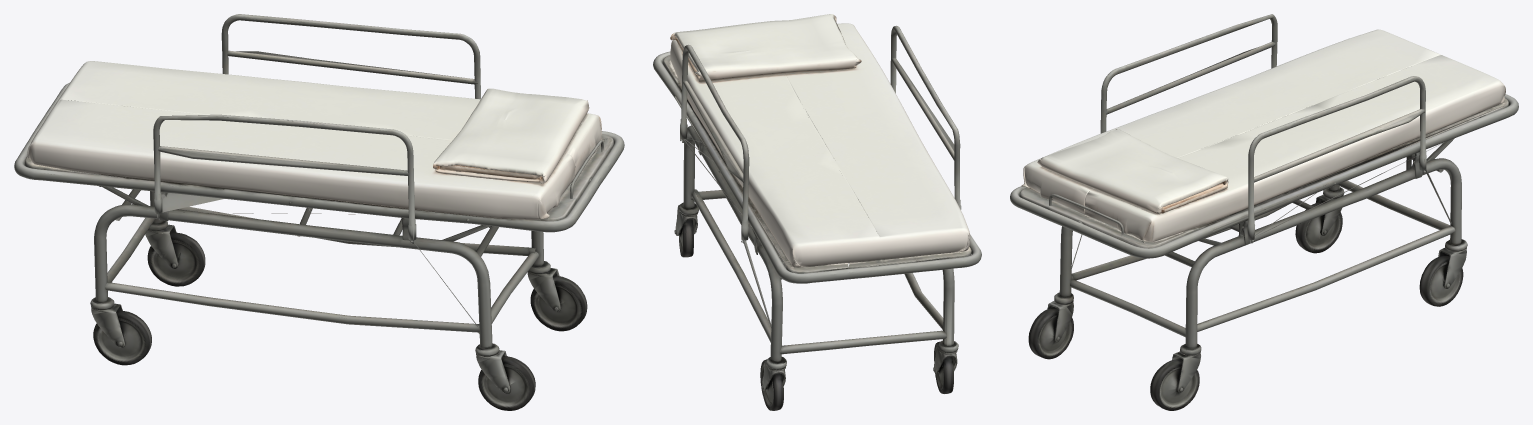
The picture shows the model from 3 angles, left to right: view 1: azimuth 30°, elevation 25°; view 2: azimuth 150°, elevation 25°; view 3: azimuth 270°, elevation 25°; orthographic projection. The views are drawn at different scales.
Visible parts, largest first — view 1: Model; view 2: Model; view 3: Model.
Part boxes in pixels (x1,y1,x2,y2): Model: [14, 14, 624, 410]; Model: [653, 14, 981, 410]; Model: [1010, 14, 1518, 410].
Bounding box in the file's own units: 0.9985 × 0.5552 × 0.9995.
1 material, 1 textured.
